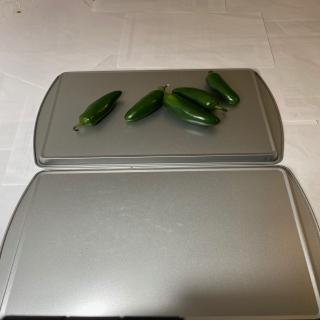Chilli: (157, 84, 221, 126), (72, 90, 122, 131), (171, 86, 228, 113), (124, 86, 166, 122), (205, 70, 240, 105)
